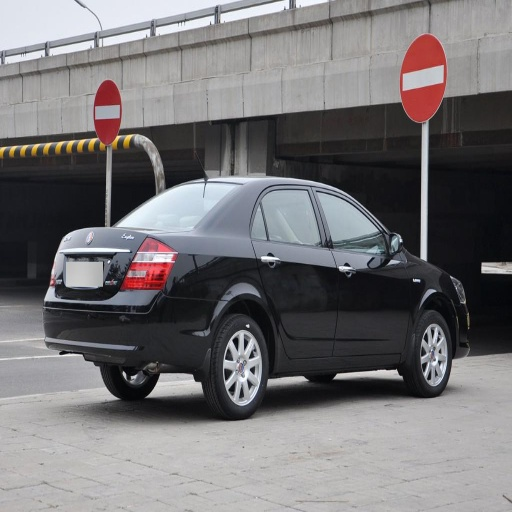back_bumper: (44, 285, 214, 367)
back_right_door: (251, 184, 338, 360)
